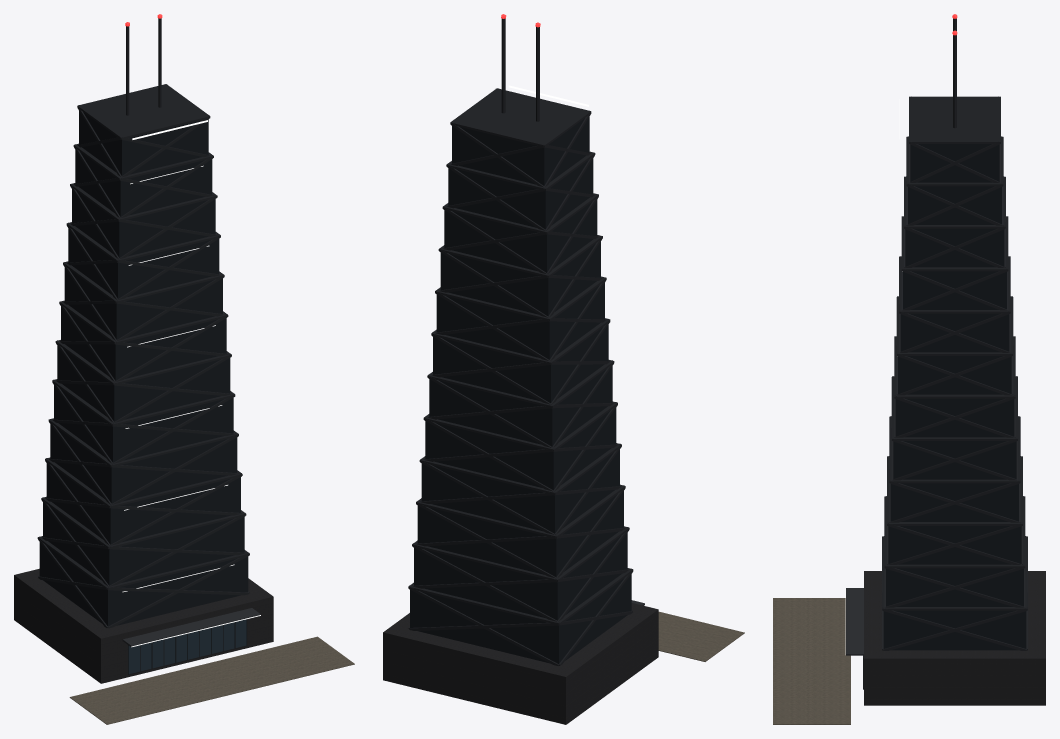
File: OT_Skyscraper_Braced.glb
3 renders of one model, left to right at view 1: azimuth 30°, elevation 25°; view 2: azimuth 150°, elevation 25°; view 3: azimuth 270°, elevation 25°, orthographic. The views are drawn at different scales.
Visible parts, largest first — view 1: OT_Skyscraper_Braced_DarkGlass__15191e, OT_Skyscraper_Braced_BlackSteel__1e2024, OT_Skyscraper_Braced_Granite, OT_Skyscraper_Braced_Pavement, OT_Skyscraper_Braced_Glass__22303a, OT_Skyscraper_Braced_CanopyDark__2a2c30, OT_Skyscraper_Braced_InteriorWarm__ffdca8, OT_Skyscraper_Braced_Frame__18191c; view 2: OT_Skyscraper_Braced_DarkGlass__15191e, OT_Skyscraper_Braced_BlackSteel__1e2024, OT_Skyscraper_Braced_Granite, OT_Skyscraper_Braced_Pavement; view 3: OT_Skyscraper_Braced_DarkGlass__15191e, OT_Skyscraper_Braced_BlackSteel__1e2024, OT_Skyscraper_Braced_Granite, OT_Skyscraper_Braced_Pavement, OT_Skyscraper_Braced_CanopyDark__2a2c30.
Part boxes in pixels (box(x1,y1,x2,y2)): OT_Skyscraper_Braced_DarkGlass__15191e: box(39, 111, 248, 626); OT_Skyscraper_Braced_BlackSteel__1e2024: box(37, 18, 249, 628); OT_Skyscraper_Braced_Granite: box(14, 568, 273, 683); OT_Skyscraper_Braced_Pavement: box(69, 636, 354, 724); OT_Skyscraper_Braced_Glass__22303a: box(128, 619, 246, 673); OT_Skyscraper_Braced_CanopyDark__2a2c30: box(122, 608, 260, 646); OT_Skyscraper_Braced_InteriorWarm__ffdca8: box(122, 165, 234, 592); OT_Skyscraper_Braced_Frame__18191c: box(128, 619, 247, 674); OT_Skyscraper_Braced_DarkGlass__15191e: box(410, 117, 631, 663); OT_Skyscraper_Braced_BlackSteel__1e2024: box(408, 18, 633, 665); OT_Skyscraper_Braced_Granite: box(383, 603, 658, 724); OT_Skyscraper_Braced_Pavement: box(658, 611, 744, 661); OT_Skyscraper_Braced_DarkGlass__15191e: box(883, 144, 1026, 650); OT_Skyscraper_Braced_BlackSteel__1e2024: box(882, 18, 1027, 650); OT_Skyscraper_Braced_Granite: box(864, 571, 1045, 705); OT_Skyscraper_Braced_Pavement: box(773, 598, 850, 724); OT_Skyscraper_Braced_CanopyDark__2a2c30: box(846, 588, 863, 655).
Size of the model in its own units: 46 by 109 by 42.
Materials: 11 (2 with a texture image).
